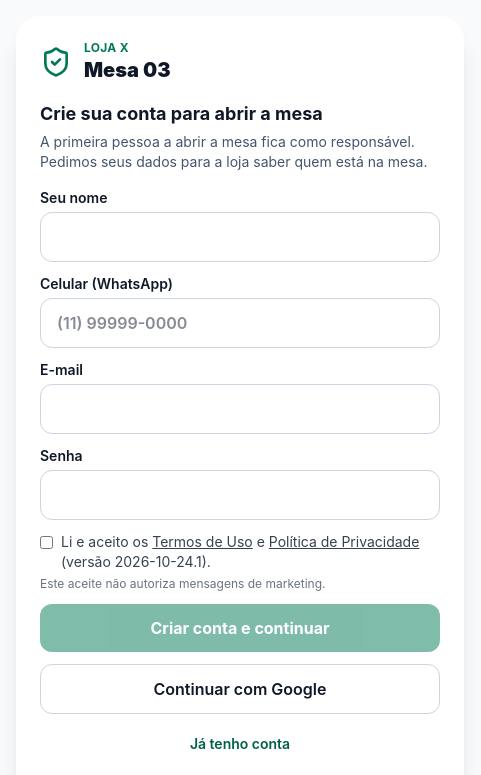
it: Mesa — modelo de acesso (capabilities v2) › cadastro exige aceite legal, nome e celular válidos; mostra "confirme seu e-mail" e volta para a mesa depois
This screenshot has width=481, height=775.
Type "Ana Souza" into the field labelled "Seu nome" at (240, 237), box 40,212 -> 440,262
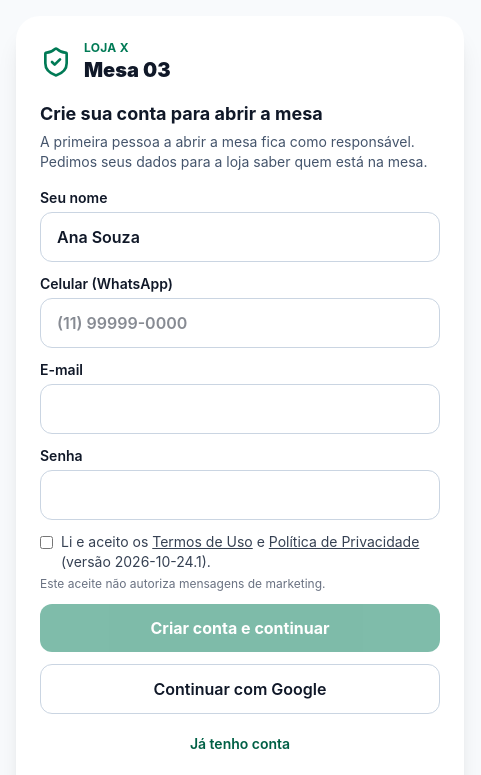
Type "11 99999-0000" into the field labelled "Celular" at (240, 323), box 40,298 -> 440,348
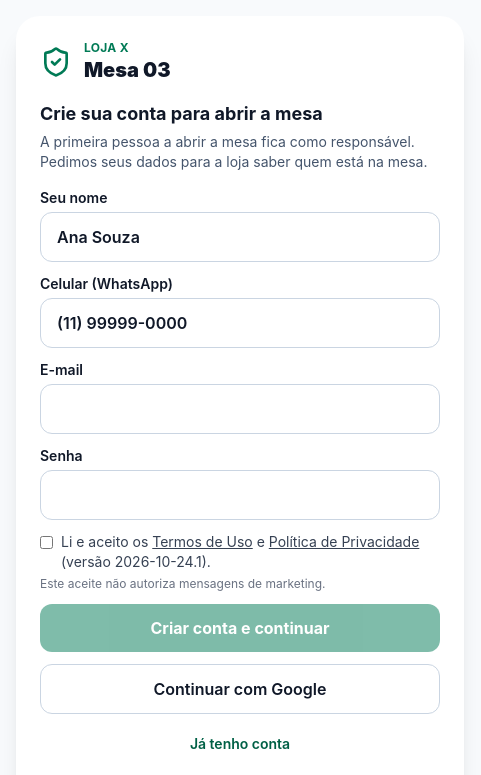
Type "ana@x.com" into the field labelled "E-mail" at (240, 409), box 40,384 -> 440,434
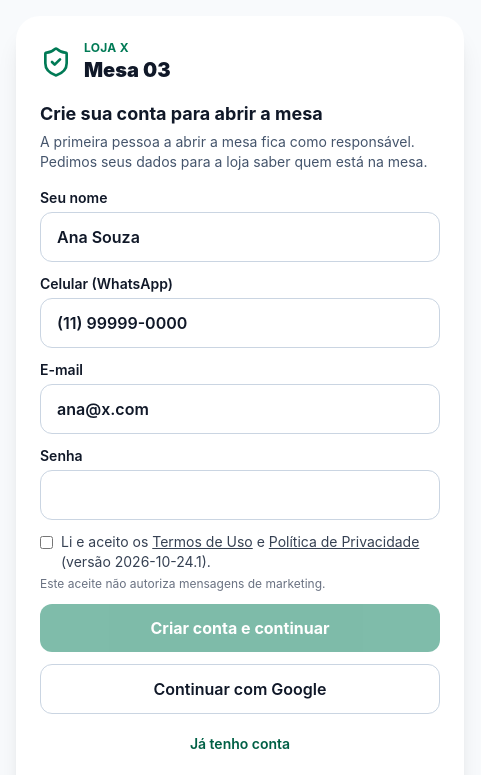
Type "segredo123" into the password field labelled "Senha" at (240, 495), box 40,470 -> 440,520
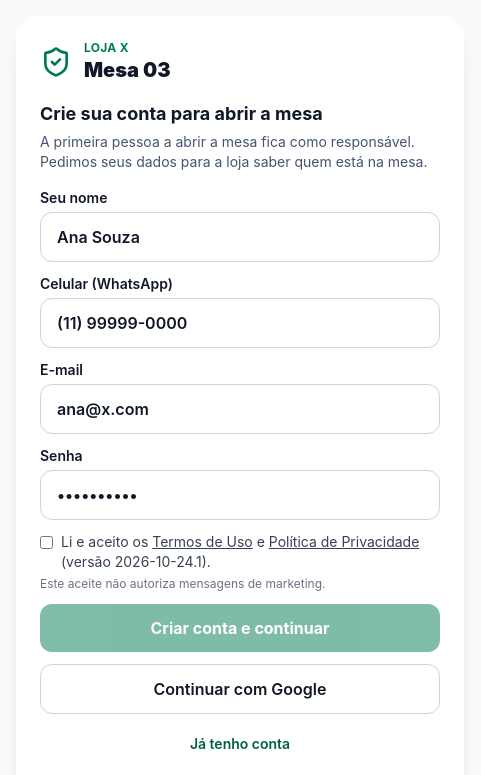
Expected: the button "Criar conta e continuar" is disabled, 40,604 -> 440,652
Click the checkbox at (46, 542), box 40,536 -> 53,549
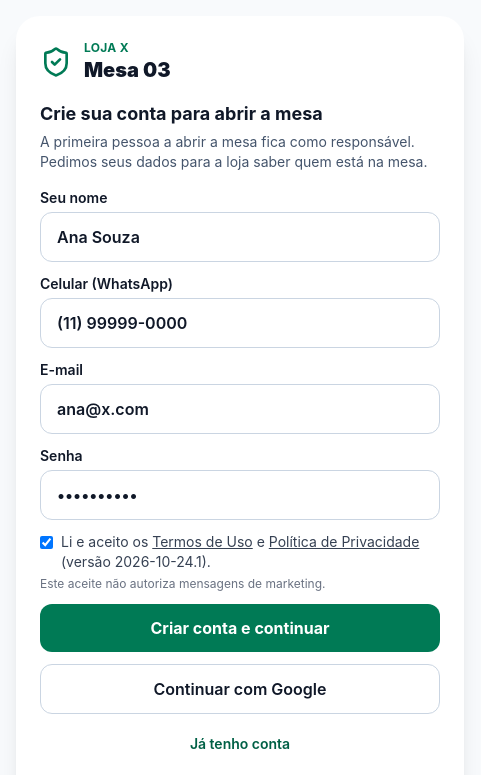
Click the button "Criar conta e continuar" at (240, 628), box 40,604 -> 440,652
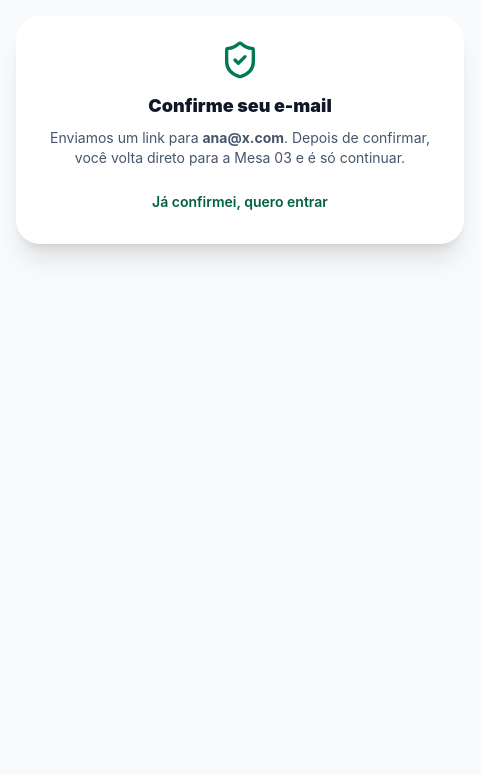
Expected: the element with test id "identity-confirm-email" is shown, 16,16 -> 464,244
